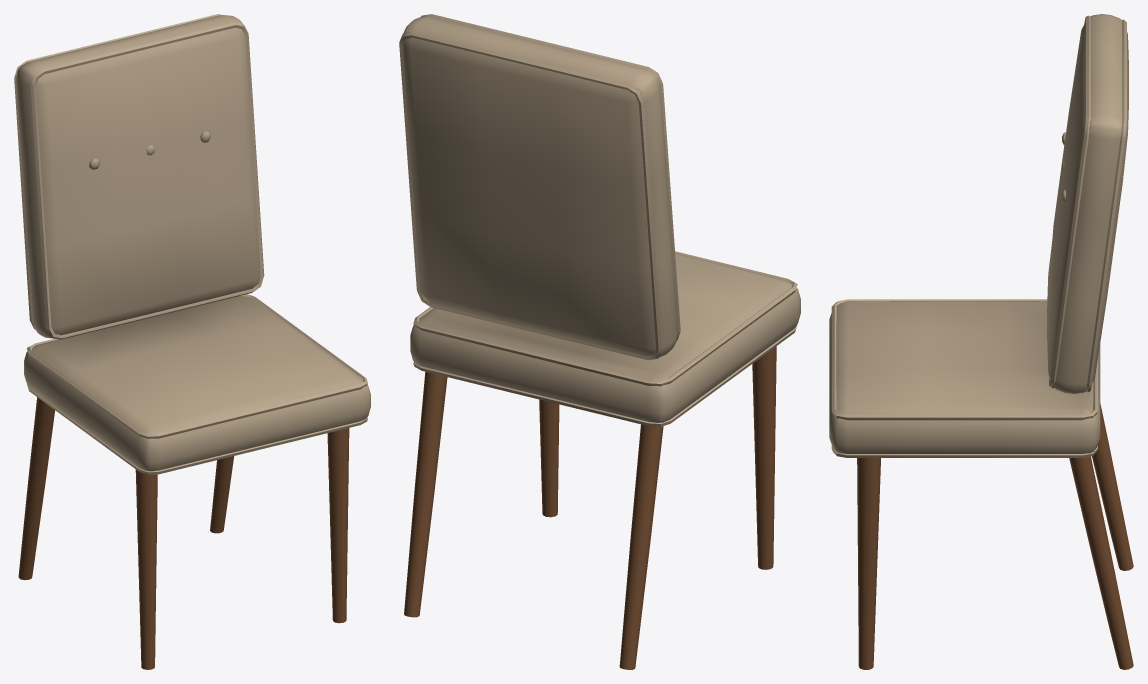
File: chairUpholstered.glb
3 views of the same model, side by side, from view 1: azimuth 30°, elevation 25°; view 2: azimuth 150°, elevation 25°; view 3: azimuth 270°, elevation 25° (orthographic). The views are drawn at different scales.
Parts seen in each view (by area): view 1: chairUpholstered; view 2: chairUpholstered; view 3: chairUpholstered.
Part boxes in pixels (x1,y1,x2,y2): chairUpholstered: (14,14,370,669); chairUpholstered: (399,14,800,669); chairUpholstered: (829,14,1133,669).
Bounding box in the file's own units: 0.46 × 0.9891 × 0.494.
